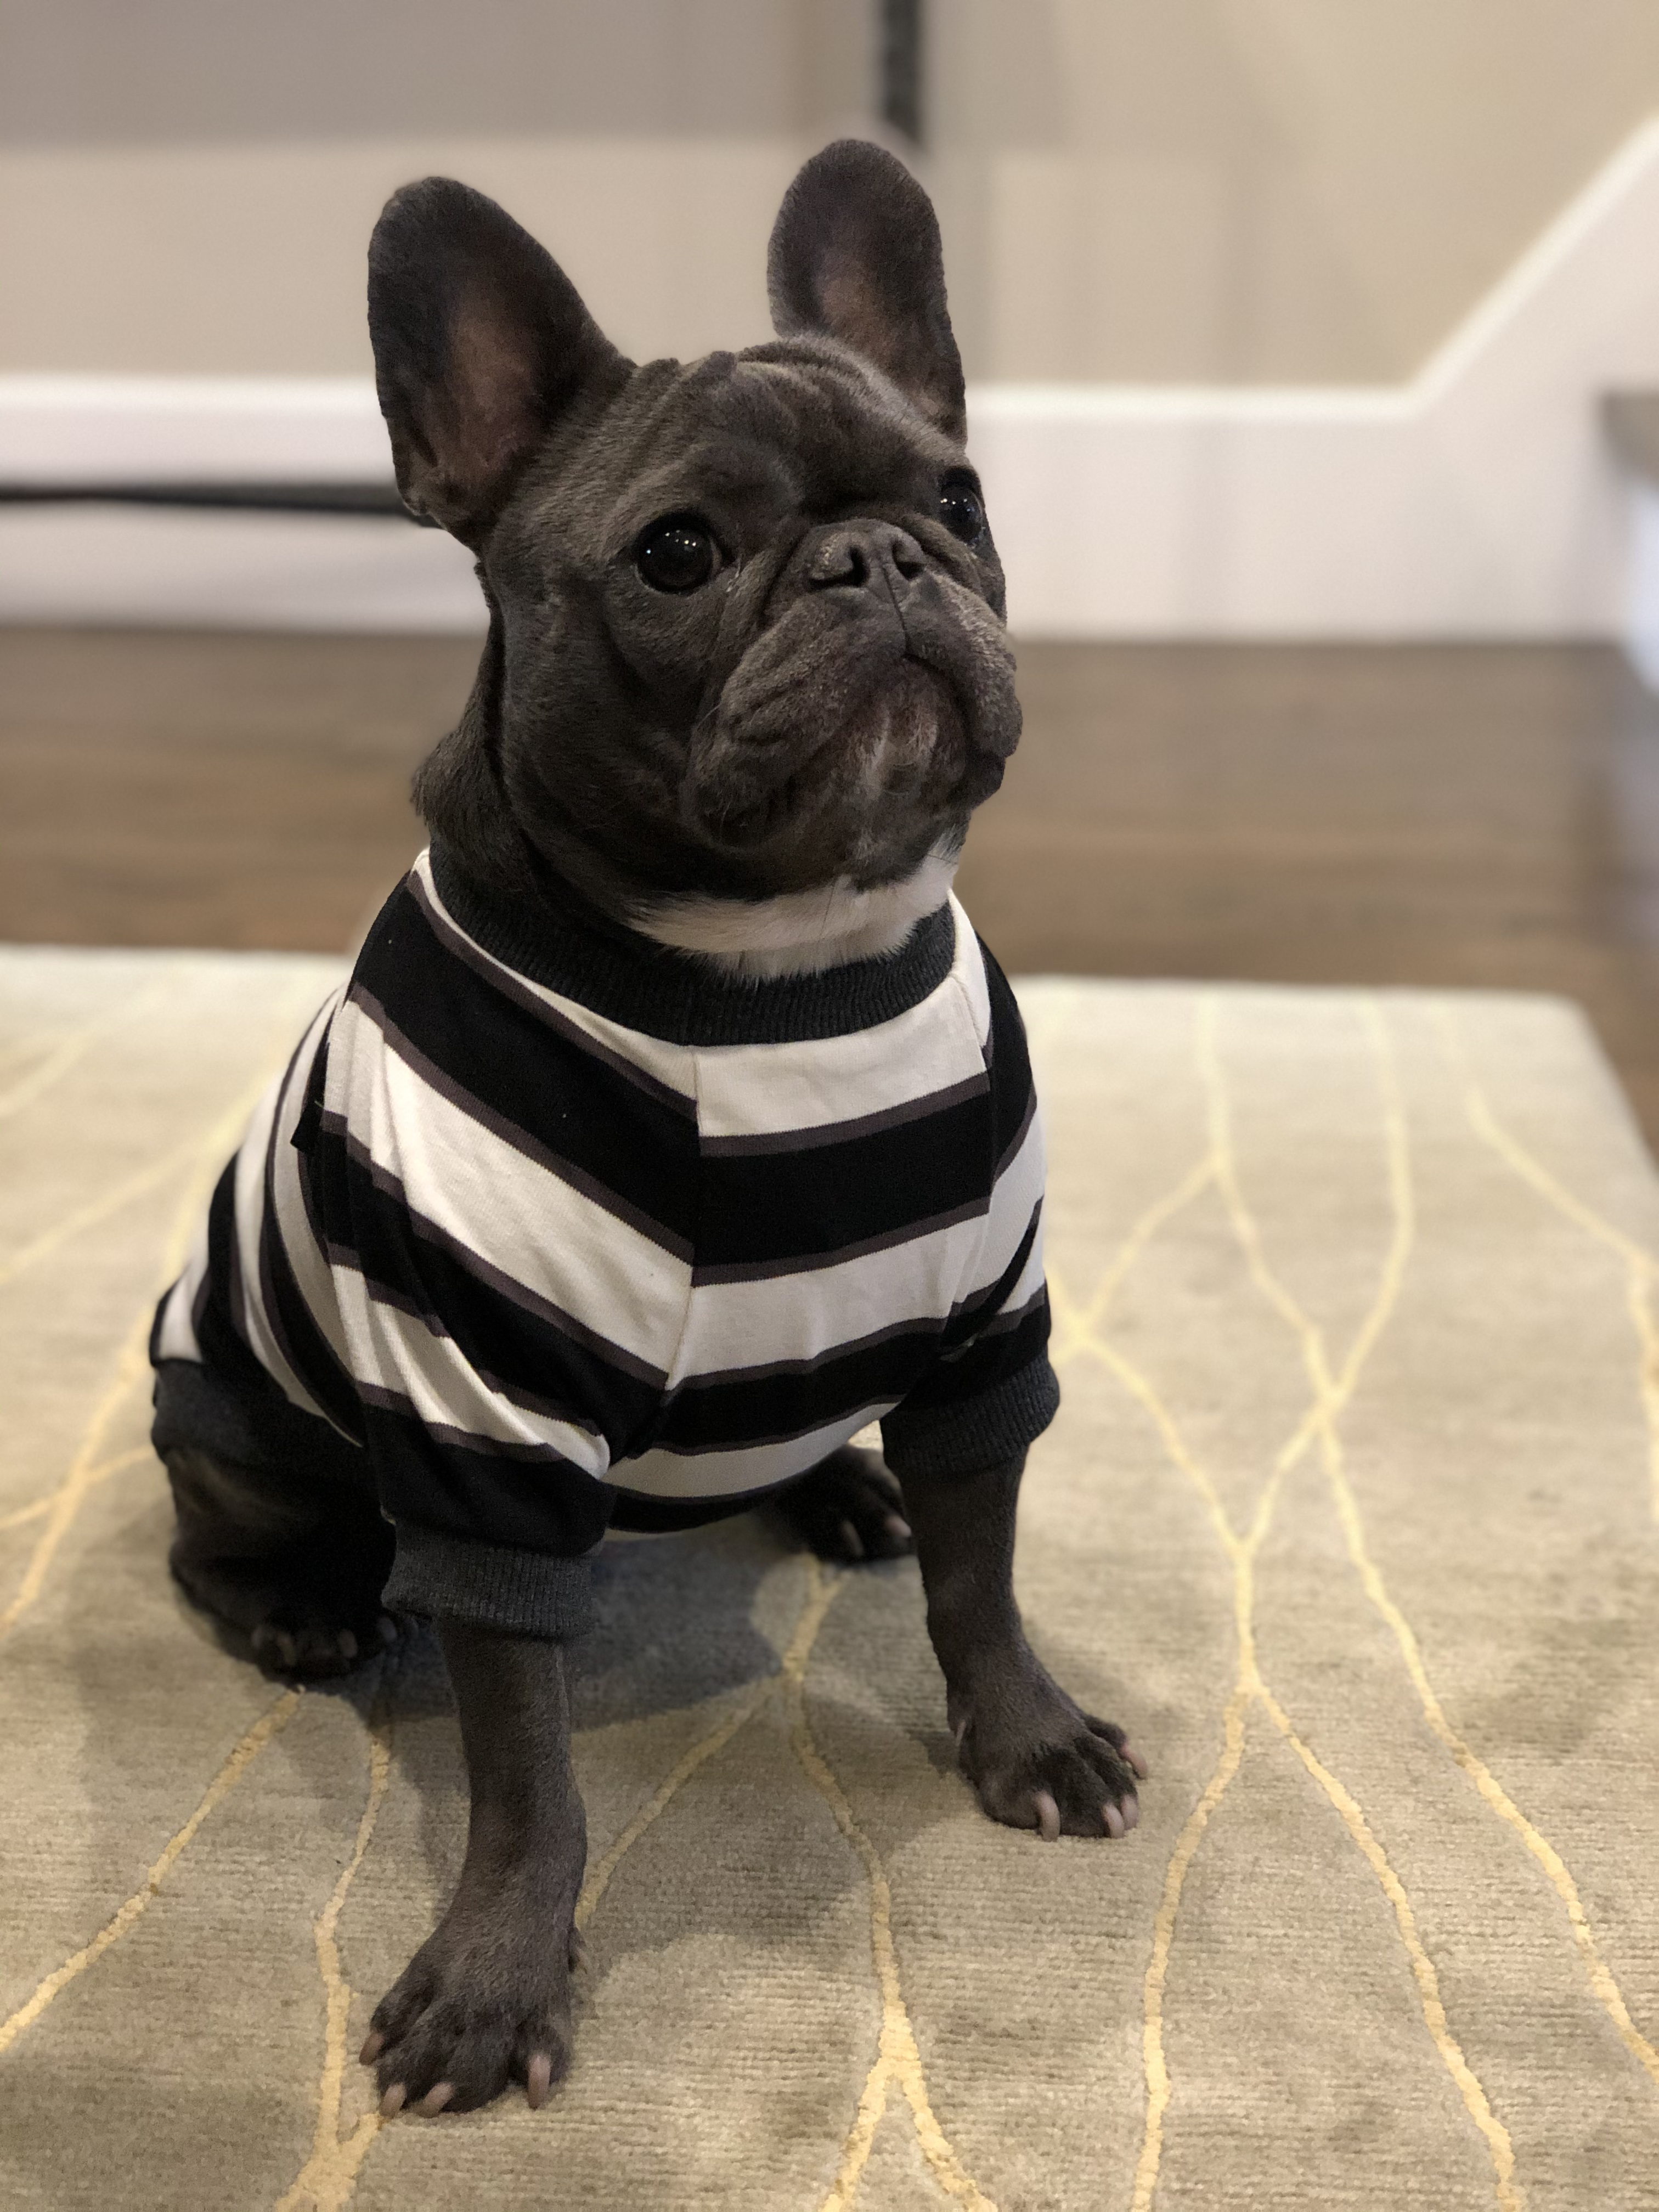lucy: (136, 125, 1169, 2132)
